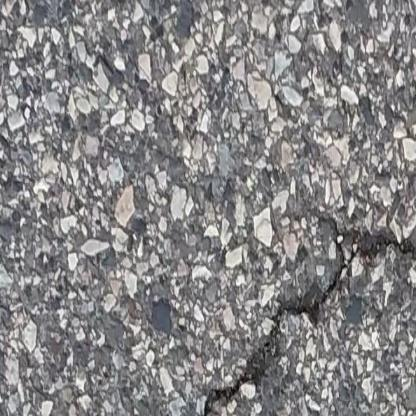Cracks: (175, 229, 416, 416), (0, 401, 45, 416)
